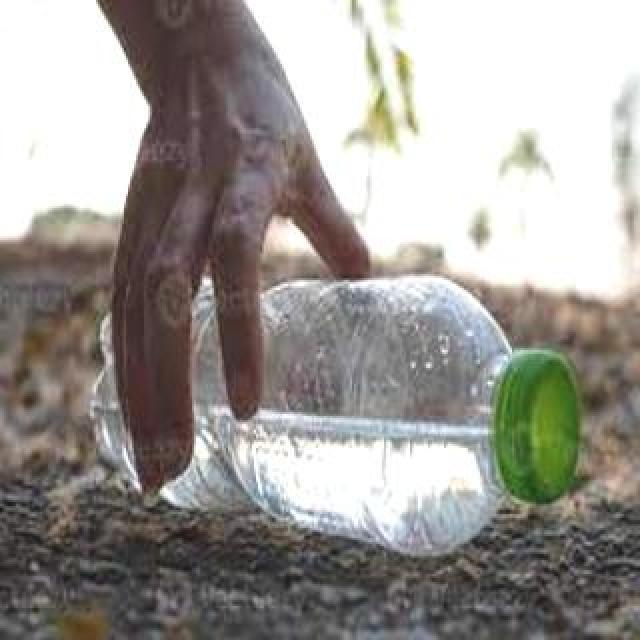Pet_Bottle: (252, 275, 584, 549)
